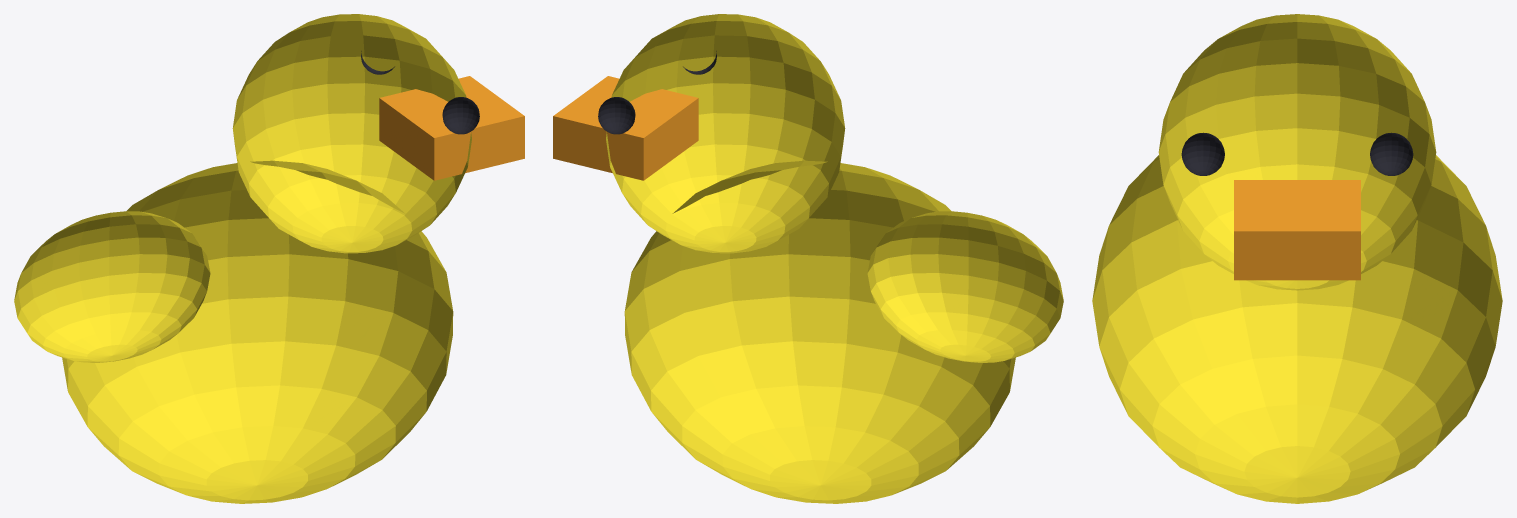
The model's file is rubber_duck.glb.
3 renders of one model, left to right at view 1: azimuth 30°, elevation 25°; view 2: azimuth 150°, elevation 25°; view 3: azimuth 270°, elevation 25°, orthographic. The views are drawn at different scales.
Visible parts, largest first — view 1: world; view 2: world; view 3: world.
Part boxes in pixels (<box>): world: <box>14,14,524,503</box>; world: <box>553,14,1063,503</box>; world: <box>1092,14,1502,503</box>.
Size of the model in its own units: 0.527 by 0.4615 by 0.34.
